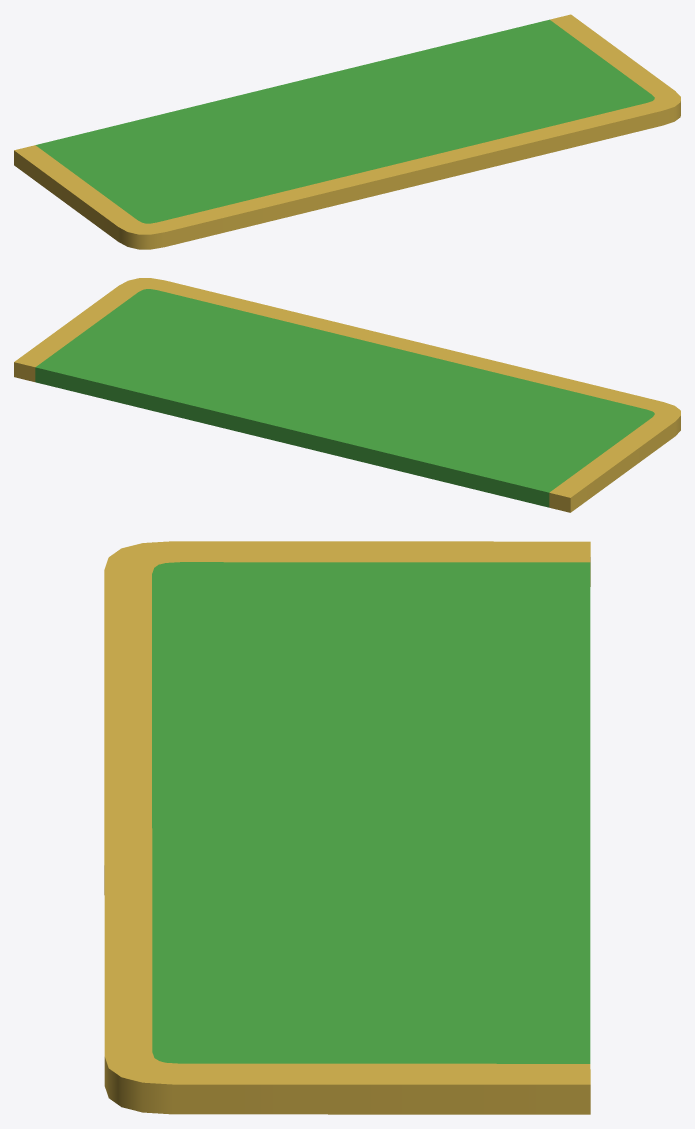
The model's file is grassfield01_s01.FBX.
3 renders of one model, top to bottom at view 1: azimuth 30°, elevation 25°; view 2: azimuth 150°, elevation 25°; view 3: azimuth 270°, elevation 25°, orthographic. The views are drawn at different scales.
Visible parts, largest first — view 1: grassfield01_s01; view 2: grassfield01_s01; view 3: grassfield01_s01.
Part boxes in pixels (x1,y1,x2,y2): grassfield01_s01: [14, 14, 680, 249]; grassfield01_s01: [14, 278, 680, 512]; grassfield01_s01: [104, 541, 590, 1114].
Size of the model in its own units: 948 by 359 by 24.44.
Materials: 1 (1 with a texture image).
